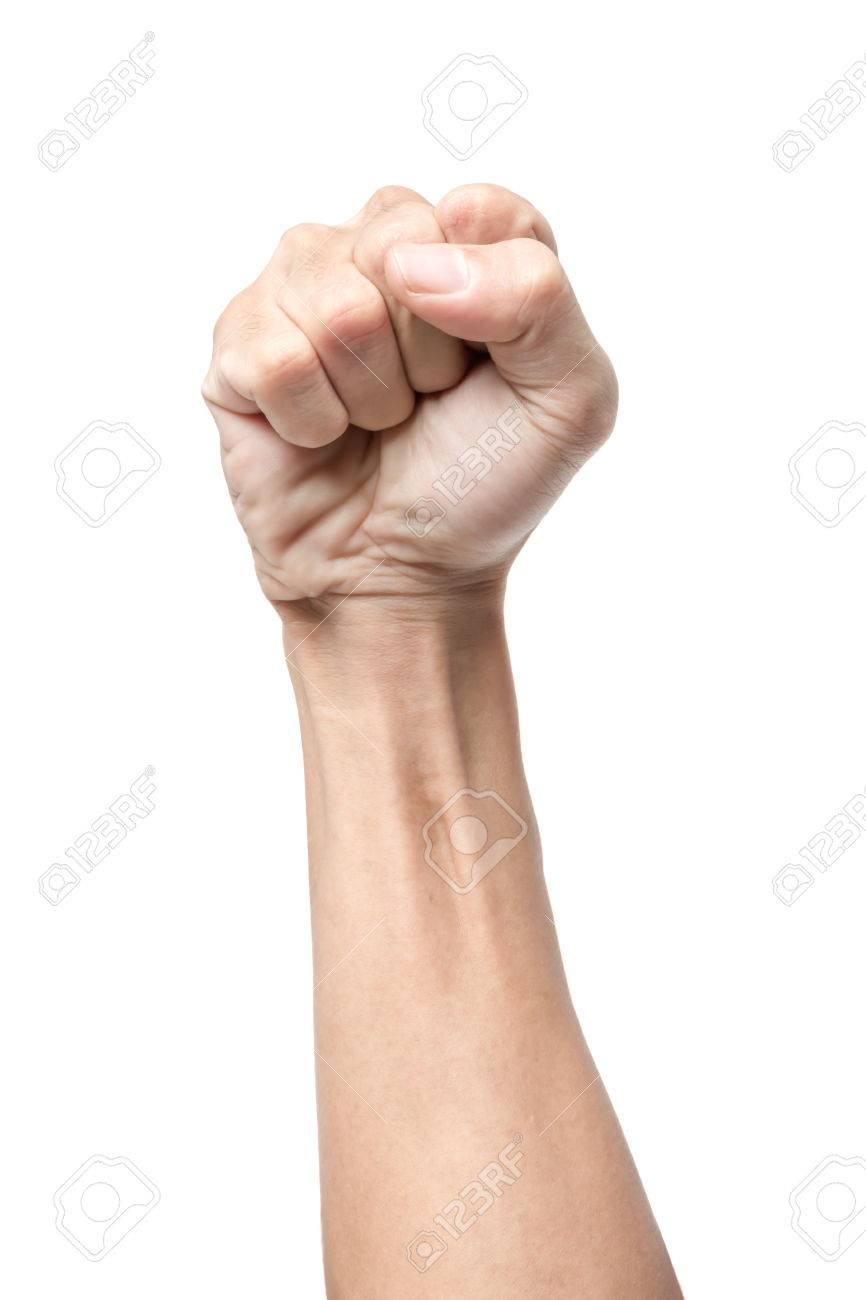fist: (196, 175, 629, 630)
